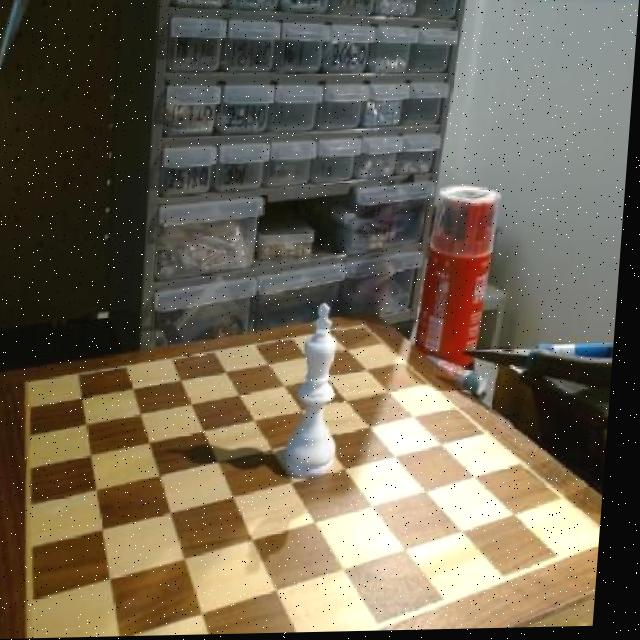white-bishop: (292, 303, 353, 483)
